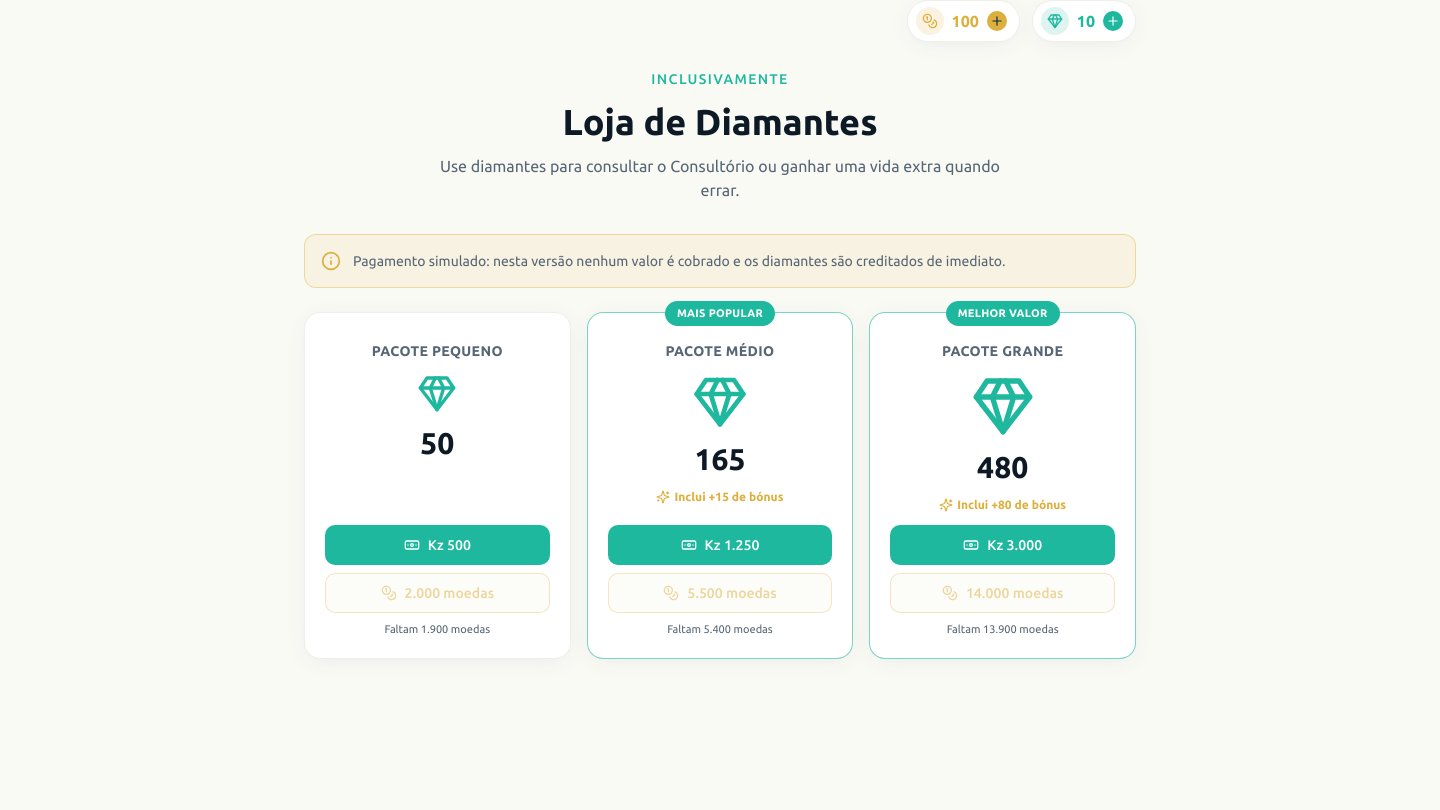
LojaDiamantes › comprar (simulado) confirma, credita pela resposta da API e actualiza a barra
This screenshot has width=1440, height=810.
Expected: the link named "Diamantes" reads "10", [1032, 0, 1136, 42]
Click the button with aria-label "50 diamantes por Kz 500": (437, 545) [325, 525, 550, 565]
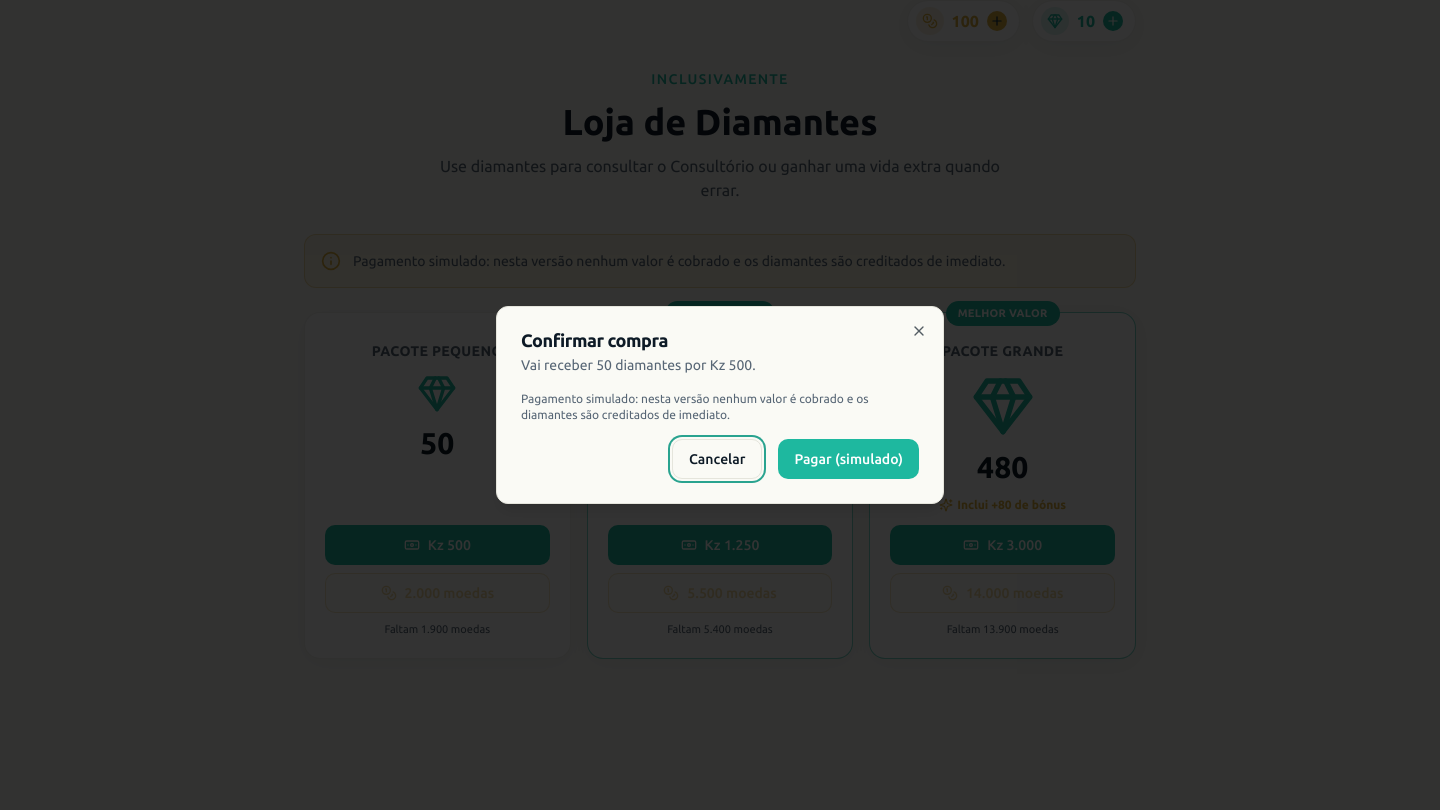
Click the button "Pagar (simulado)": (849, 459) [778, 439, 919, 479]
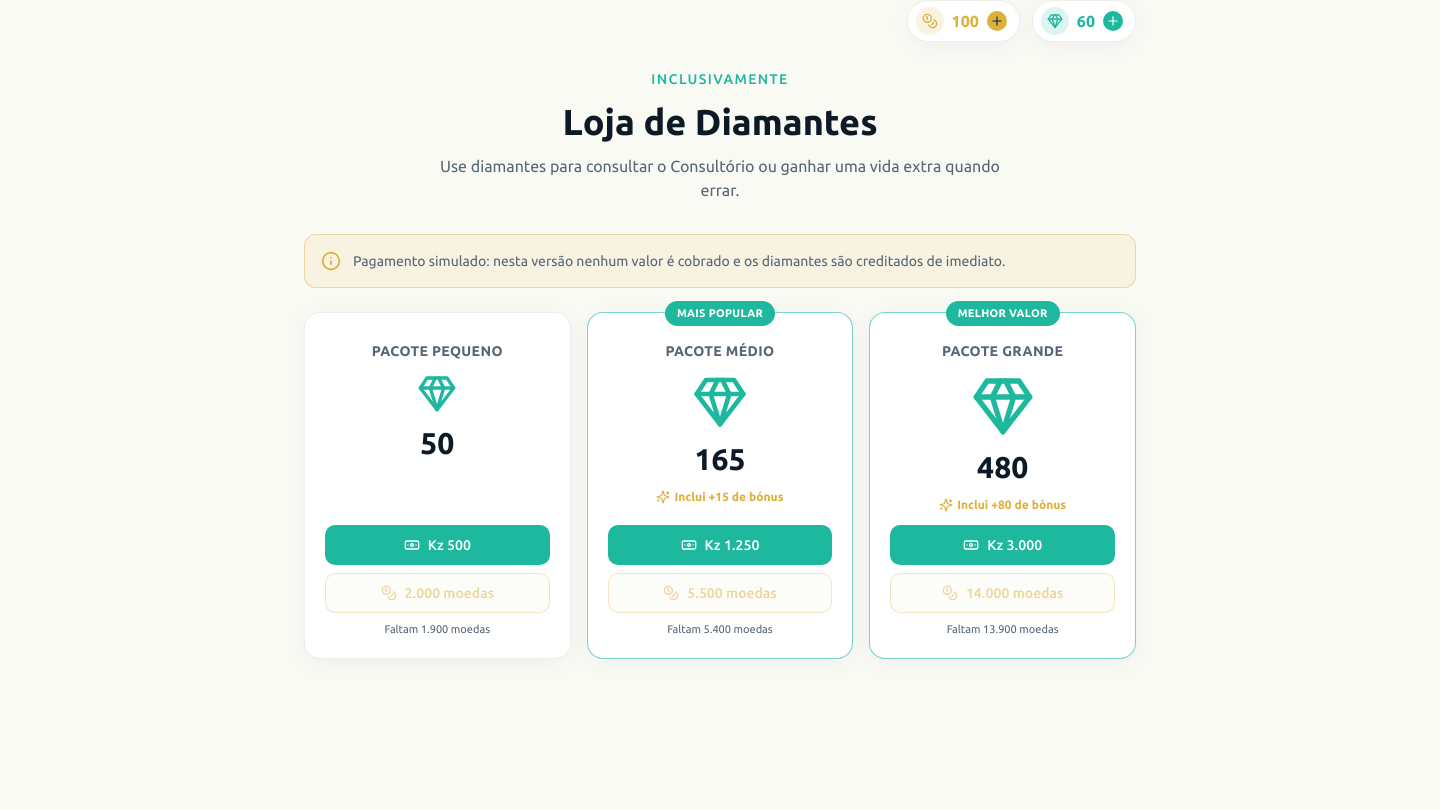
Result: the link named "Diamantes" reads "60" at [1032, 0, 1136, 42]
